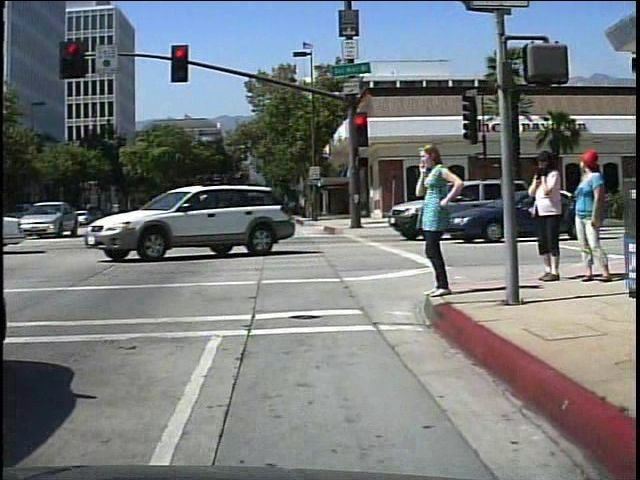person: (411, 140, 461, 302), (567, 146, 611, 286), (522, 147, 566, 287)
